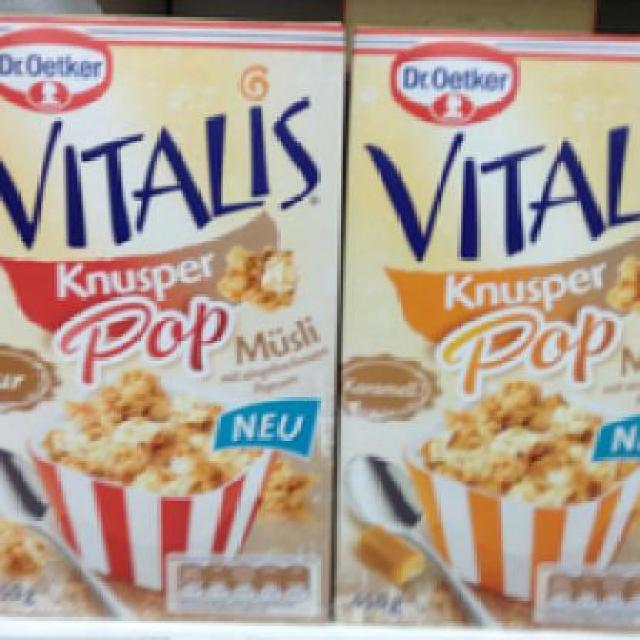Cereal: (0, 17, 343, 614), (334, 17, 637, 617)
